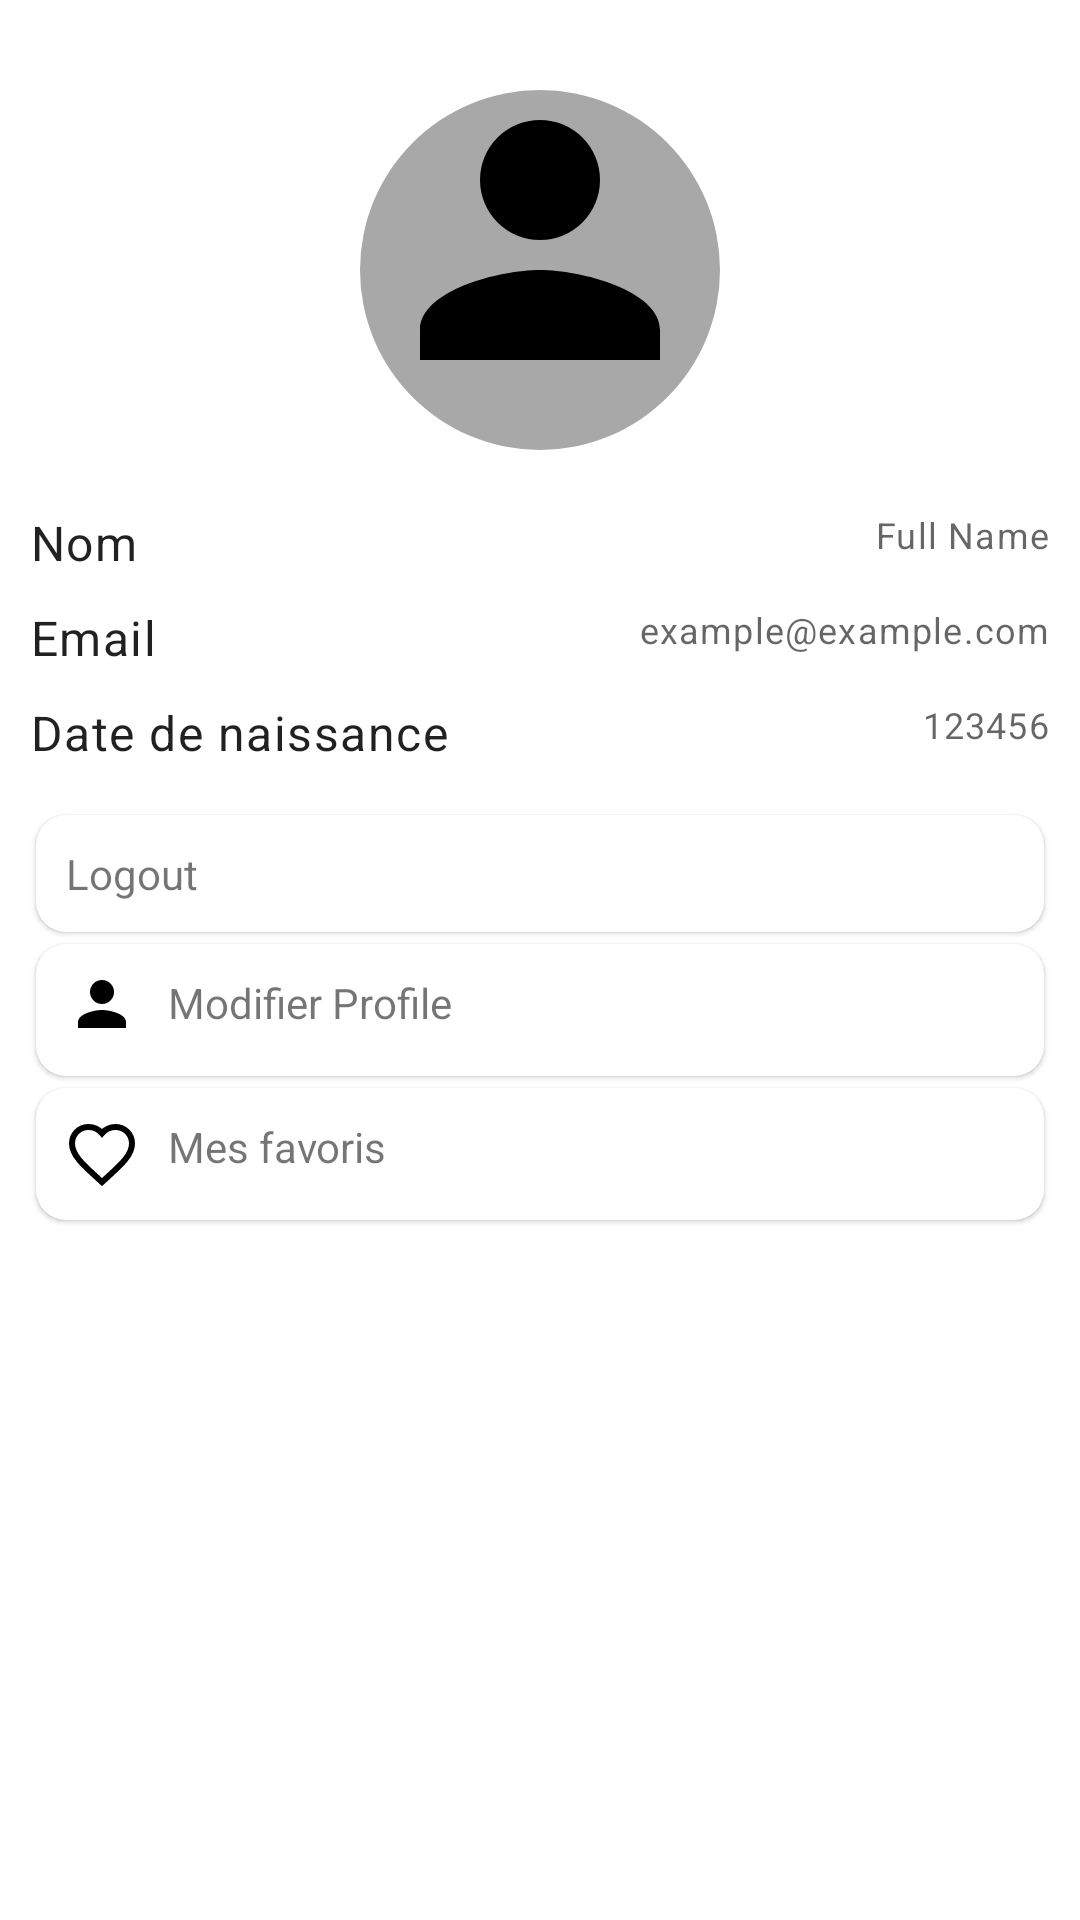

Named icons in this screenshot (1080px x 1920px) and their centers, (x,y):
profile: (540,270)
